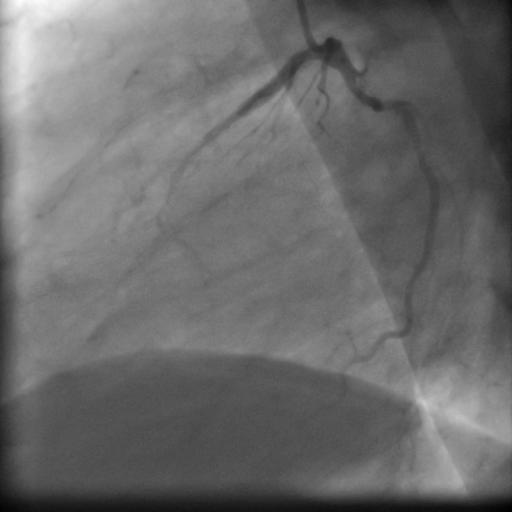Stenosis: (376, 89, 401, 121)
